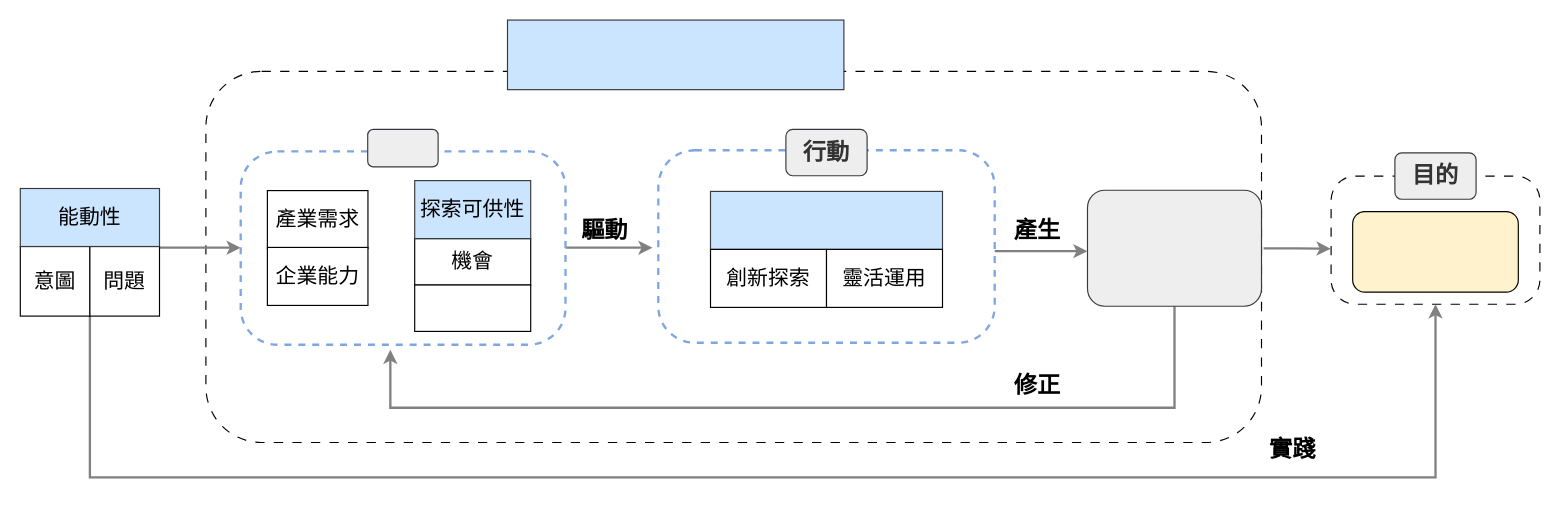
This 1560x508 diagram has some shape labels left out. The shapes that lost their labels are listed below. From the top down, each one's centre as x and y in pixels, then its label:
the point at 675,54: 科技可供性制定
the point at 402,147: 認知
the point at 825,219: 雙元性能力實現可供性
the point at 1174,247: 平台階段性 應用成果
the point at 1435,251: 數位紡織 產業生態系
the point at 472,307: 物質性
